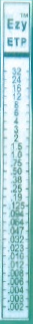number: (7, 235, 26, 244), (7, 252, 26, 261), (7, 260, 25, 269), (7, 269, 25, 278), (8, 286, 26, 295), (7, 294, 25, 303), (8, 218, 25, 227), (8, 226, 25, 235), (10, 184, 25, 194), (9, 202, 25, 211), (7, 303, 25, 311), (8, 244, 25, 252), (7, 278, 24, 286), (10, 193, 25, 202), (10, 142, 23, 151), (11, 159, 24, 168), (10, 175, 23, 184), (9, 210, 25, 217), (11, 67, 23, 76), (11, 167, 24, 175), (11, 76, 22, 85), (11, 151, 23, 159), (12, 84, 22, 93), (12, 92, 23, 100), (13, 101, 20, 110), (12, 134, 19, 143), (13, 125, 19, 134), (14, 109, 20, 117), (13, 117, 19, 125)
